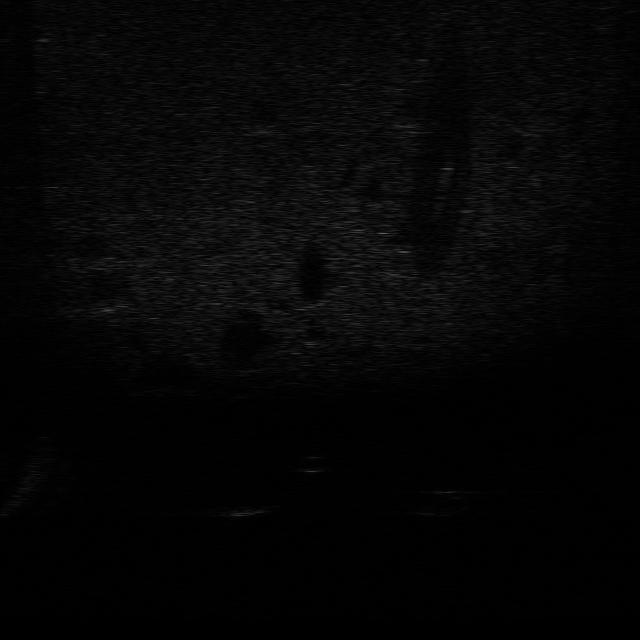ball: (288, 448, 334, 476)
square cage: (211, 495, 281, 526)
tyre: (412, 486, 472, 520)
